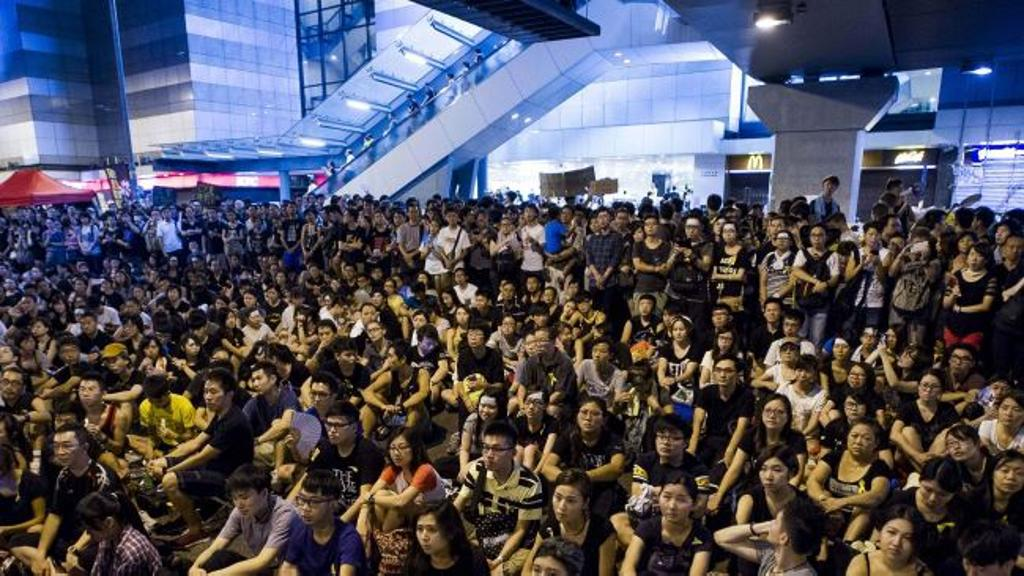face: (881, 525, 915, 561), (660, 488, 693, 523), (299, 491, 329, 526), (418, 518, 447, 554), (554, 490, 584, 523), (759, 460, 788, 493), (963, 557, 1009, 576), (995, 463, 1024, 493), (483, 440, 511, 471), (54, 437, 83, 466), (231, 490, 262, 517), (947, 434, 977, 461), (657, 429, 684, 458), (923, 484, 953, 510), (849, 429, 876, 456), (326, 418, 353, 445), (578, 406, 602, 433), (389, 439, 412, 467), (763, 404, 788, 429), (1000, 401, 1023, 427), (204, 385, 226, 411), (767, 513, 786, 543), (54, 415, 77, 439), (2, 374, 23, 399), (919, 380, 941, 403), (950, 351, 972, 373), (845, 397, 866, 420), (311, 386, 332, 409), (81, 383, 101, 406), (479, 398, 498, 422), (84, 522, 108, 541), (715, 363, 735, 385), (106, 352, 126, 373), (795, 366, 815, 386), (252, 374, 271, 395), (897, 350, 920, 367), (525, 396, 543, 416), (992, 383, 1009, 404), (61, 346, 79, 365), (849, 368, 866, 388), (969, 250, 985, 271), (525, 338, 542, 357), (1007, 243, 1024, 262), (593, 344, 609, 364), (781, 343, 798, 361), (468, 329, 485, 347), (340, 348, 356, 367), (685, 221, 701, 239), (673, 323, 688, 342), (536, 335, 551, 354), (388, 350, 403, 369), (996, 227, 1011, 246), (362, 309, 378, 326), (834, 341, 849, 359), (811, 230, 826, 248), (631, 379, 650, 393), (149, 396, 169, 409), (367, 326, 383, 342), (959, 237, 975, 253), (502, 318, 517, 335), (866, 230, 880, 248), (713, 312, 728, 328), (421, 338, 437, 353), (719, 333, 733, 350), (319, 329, 333, 346), (888, 220, 902, 237), (784, 321, 799, 336), (185, 340, 200, 355), (124, 322, 138, 338), (640, 301, 654, 317), (663, 310, 677, 326), (722, 227, 736, 243), (267, 354, 281, 370), (145, 341, 158, 358), (22, 338, 36, 353), (82, 319, 96, 334), (863, 331, 876, 347), (535, 310, 548, 326), (457, 310, 470, 326), (887, 331, 899, 348), (772, 222, 784, 239), (768, 305, 780, 322), (937, 214, 948, 232), (33, 323, 47, 337), (190, 326, 204, 340), (777, 236, 790, 251), (645, 221, 658, 236), (892, 185, 904, 201), (561, 329, 572, 346), (715, 220, 727, 235), (1, 348, 13, 363), (249, 313, 261, 327), (157, 333, 171, 345), (579, 298, 591, 312), (599, 214, 611, 228), (524, 208, 536, 222), (617, 214, 628, 229), (225, 314, 235, 330), (22, 299, 35, 311), (414, 318, 426, 331), (825, 180, 837, 193), (245, 294, 256, 308), (298, 311, 309, 325), (972, 216, 982, 231), (476, 296, 488, 308), (54, 301, 65, 314), (504, 286, 515, 299), (590, 219, 601, 232), (293, 293, 304, 306), (633, 229, 643, 243), (169, 289, 180, 301), (372, 294, 383, 306), (447, 214, 458, 226), (528, 280, 538, 293), (443, 295, 453, 308), (562, 210, 572, 223), (410, 209, 420, 222), (565, 304, 576, 315), (91, 303, 102, 314), (268, 289, 278, 301), (216, 301, 226, 313), (502, 222, 512, 234), (508, 211, 518, 223), (76, 311, 85, 324), (455, 273, 465, 284), (394, 215, 404, 226), (375, 214, 385, 225), (306, 213, 316, 224), (32, 269, 42, 280), (241, 273, 251, 284), (102, 281, 112, 292), (76, 299, 86, 310), (27, 289, 36, 301), (345, 268, 354, 280), (479, 217, 488, 229), (242, 287, 251, 299), (333, 259, 342, 271), (364, 201, 372, 214), (5, 281, 15, 291), (372, 269, 382, 279), (128, 303, 137, 314), (76, 281, 85, 292), (135, 289, 144, 300), (545, 292, 554, 303), (419, 276, 428, 287), (393, 278, 402, 289), (570, 285, 578, 297), (277, 275, 286, 285), (358, 278, 367, 288), (288, 205, 297, 215), (122, 215, 131, 225), (46, 273, 55, 283), (269, 258, 278, 268), (311, 268, 319, 279), (385, 284, 393, 295), (344, 213, 352, 224), (322, 212, 330, 223), (283, 207, 291, 218), (194, 202, 202, 213), (575, 211, 582, 223), (39, 283, 48, 292), (325, 298, 333, 308), (467, 212, 475, 222), (431, 223, 439, 233), (269, 207, 277, 217), (109, 218, 117, 228), (117, 274, 125, 283), (192, 259, 200, 268), (170, 258, 178, 267), (231, 257, 239, 266), (211, 263, 219, 272), (330, 213, 338, 222), (163, 211, 171, 220), (209, 211, 217, 220), (161, 282, 170, 290), (153, 212, 160, 222), (112, 260, 120, 268), (190, 243, 198, 251), (81, 216, 89, 224), (68, 207, 76, 215), (261, 207, 268, 216), (228, 213, 235, 222), (255, 220, 262, 228), (81, 266, 88, 274), (149, 258, 156, 266), (58, 267, 65, 275), (249, 209, 256, 216), (151, 273, 158, 280), (273, 221, 279, 229), (47, 221, 53, 229), (186, 210, 192, 218), (49, 210, 55, 218), (135, 217, 141, 225), (271, 262, 277, 269), (55, 223, 61, 230)
